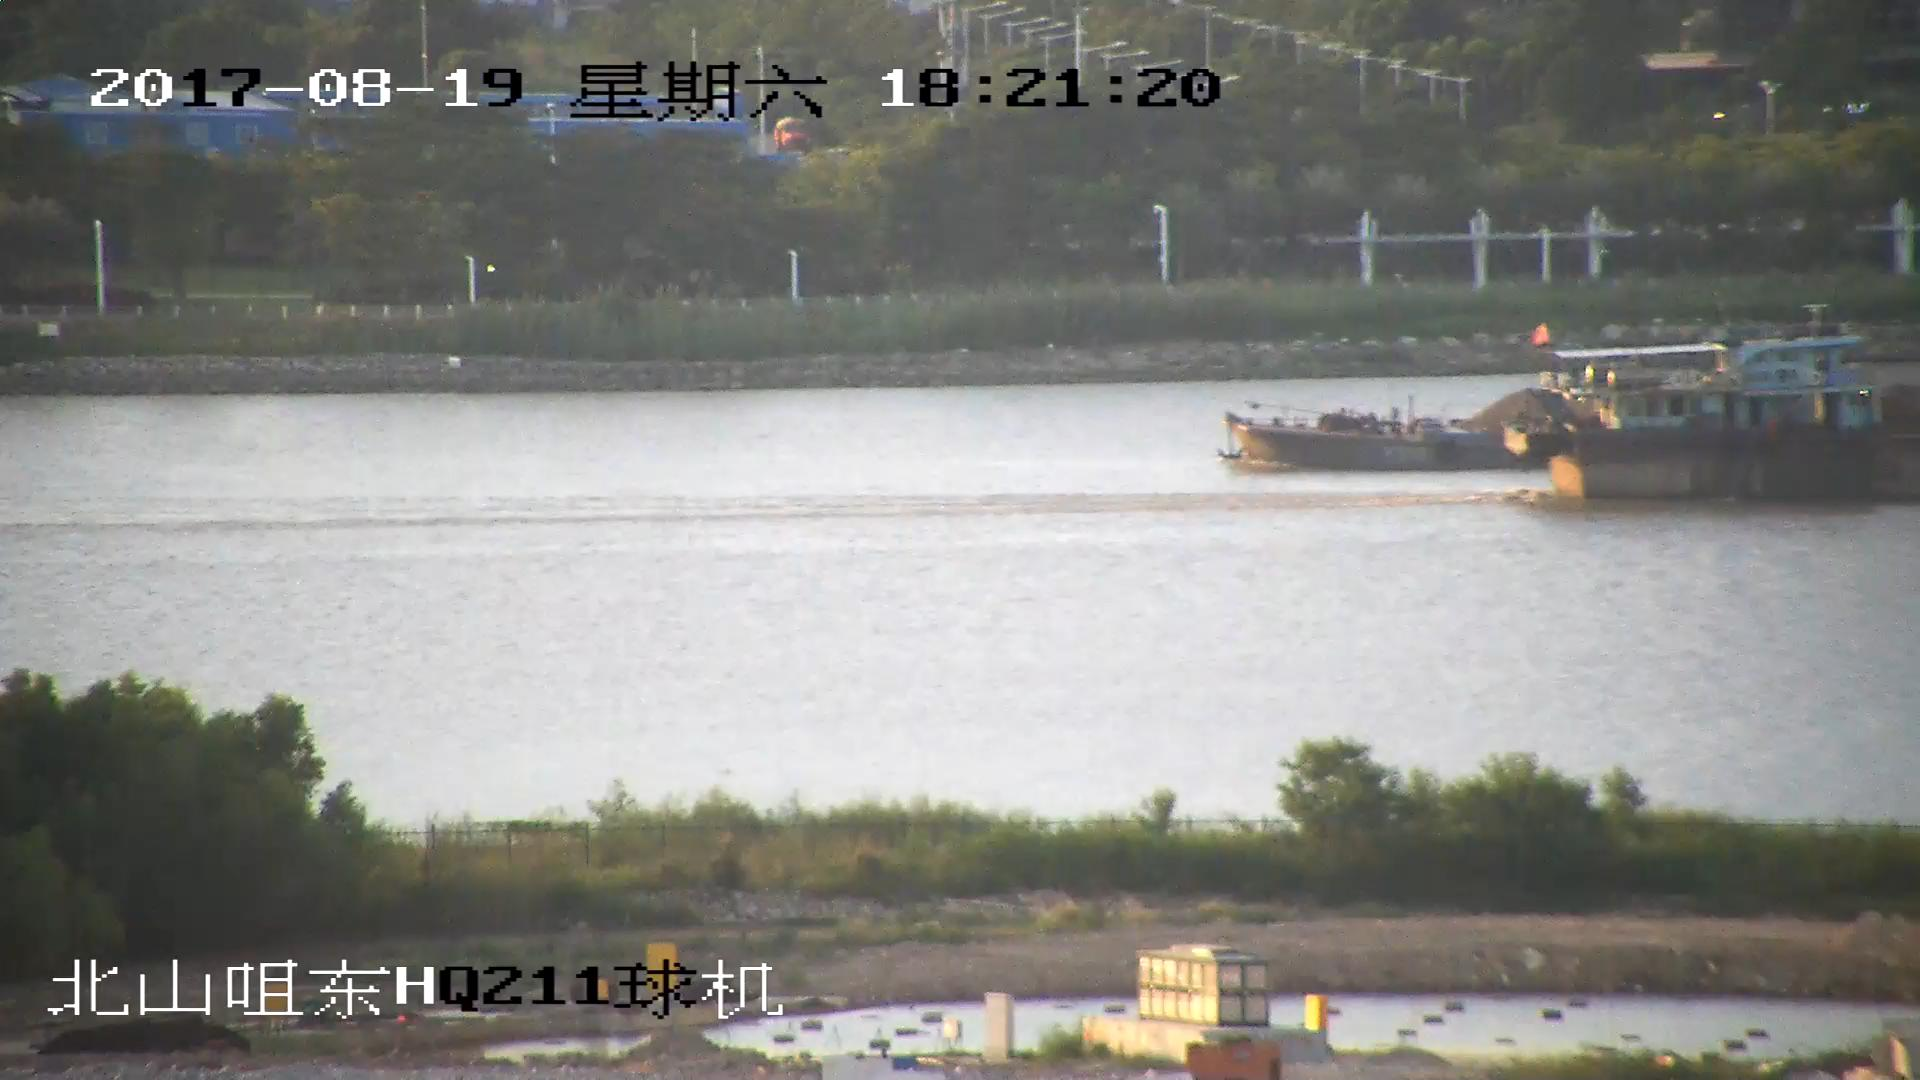bulk cargo carrier: (1535, 352, 1920, 498)
ore carrier: (1224, 387, 1676, 464)
